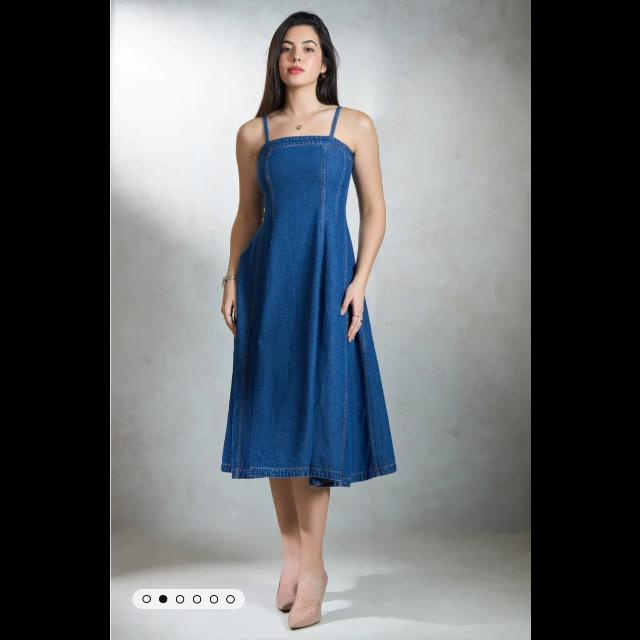dress: (239, 102, 365, 500)
shoes: (286, 598, 324, 628), (269, 580, 295, 608)
